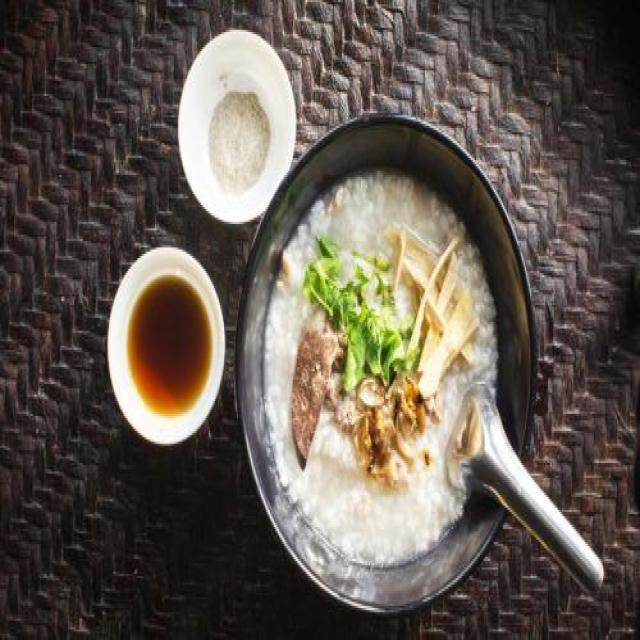bubur ayam: (264, 173, 499, 563)
mangkuk: (234, 114, 538, 616), (176, 28, 298, 226)
